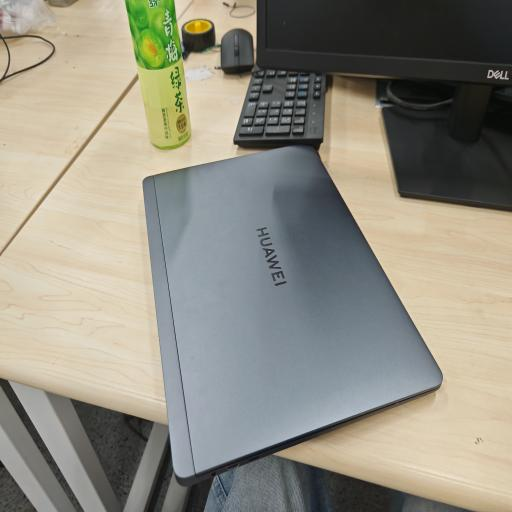laptop: (144, 146, 442, 484)
mouse: (221, 28, 254, 74)
